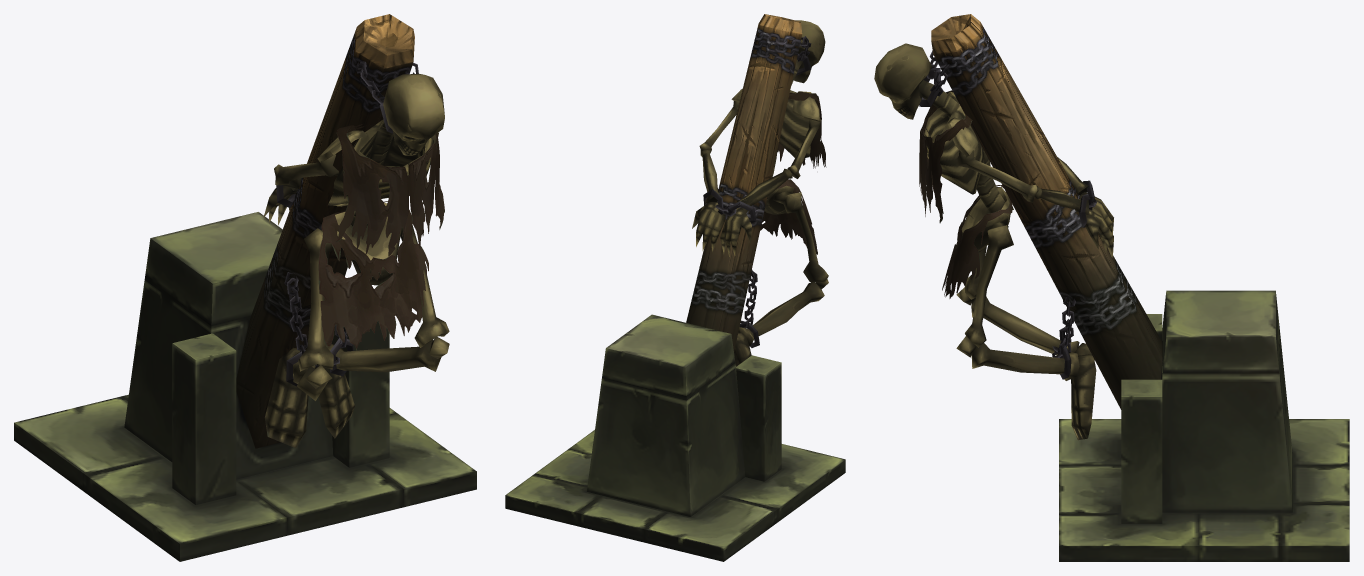
Rendered from skeleton_01.fbx.
3 views of the same model, side by side, from view 1: azimuth 30°, elevation 25°; view 2: azimuth 150°, elevation 25°; view 3: azimuth 270°, elevation 25° (orthographic). The views are drawn at different scales.
Parts seen in each view (by area): view 1: skeleton_01, cloth_01; view 2: skeleton_01, cloth_01; view 3: skeleton_01, cloth_01.
Boxes of the visible parts, x1,y1,x2,y2 form: skeleton_01: (14,14,476,561); cloth_01: (318,122,444,350); skeleton_01: (505,14,845,561); cloth_01: (760,91,826,254); skeleton_01: (874,14,1349,561); cloth_01: (919,90,1012,298).
Size of the model in its own units: 150 by 263 by 237.
